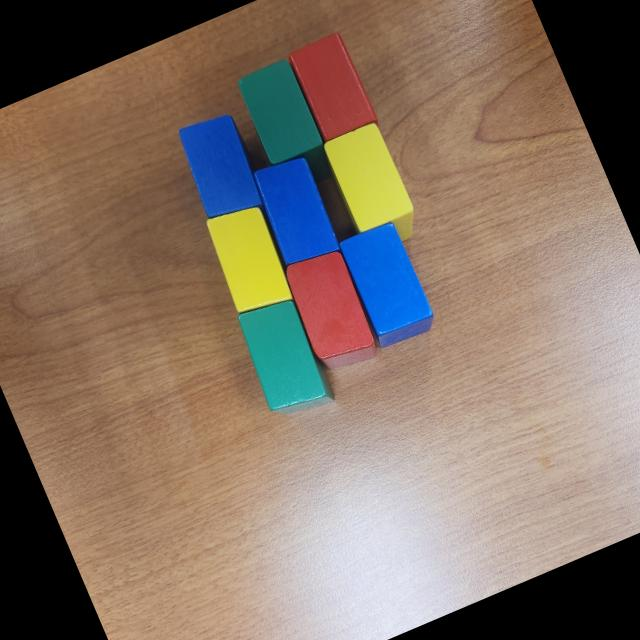blue: (334, 217, 441, 352), (243, 148, 344, 272), (170, 107, 272, 229)
green: (233, 55, 339, 200), (229, 290, 338, 422)
red: (278, 244, 384, 379), (284, 28, 380, 142)
yellow: (320, 119, 426, 257), (200, 198, 299, 324)
